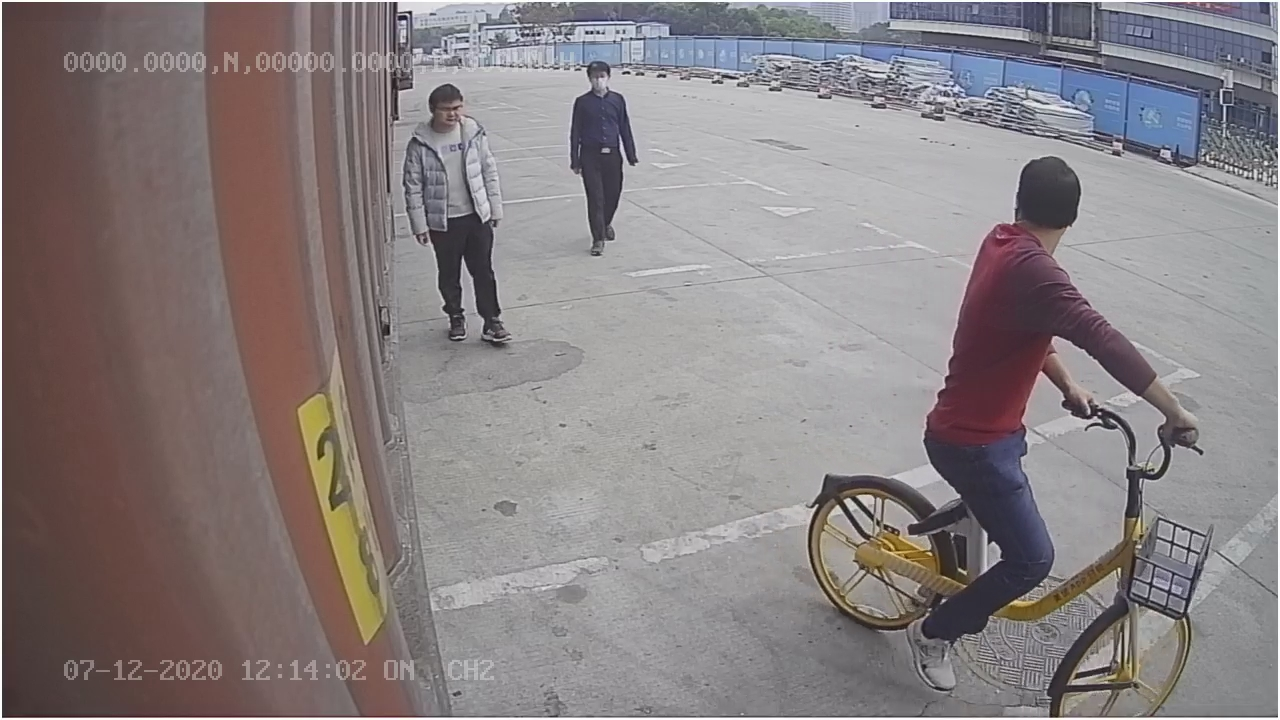person: (403, 86, 529, 345), (560, 57, 648, 269)
